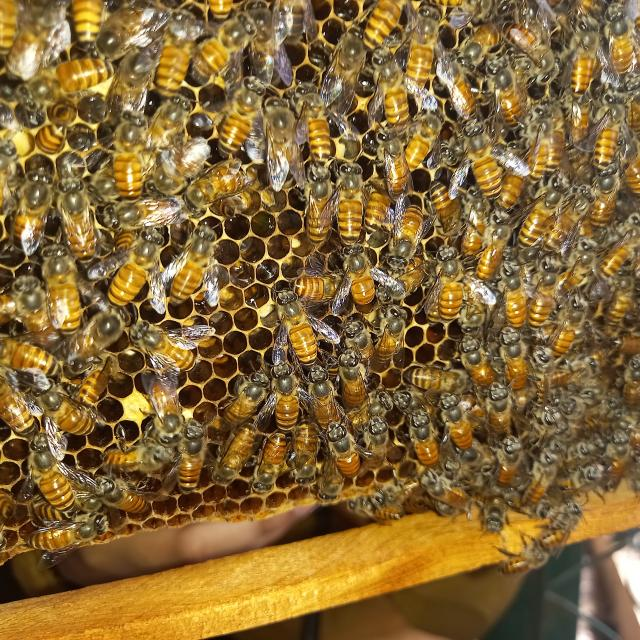honeybee: (96, 230, 180, 336), (110, 110, 166, 217), (214, 81, 275, 176), (192, 13, 263, 94), (170, 220, 226, 315), (20, 53, 100, 117), (450, 121, 510, 201), (130, 322, 200, 390), (25, 443, 92, 512), (28, 517, 113, 571), (50, 177, 105, 260), (494, 15, 562, 82), (36, 244, 84, 338), (335, 243, 394, 319), (70, 307, 130, 381), (12, 163, 58, 259), (170, 416, 223, 499), (247, 0, 293, 93), (278, 299, 329, 380), (298, 86, 348, 167), (265, 94, 309, 186), (321, 23, 364, 116), (110, 50, 158, 133), (511, 172, 562, 250), (392, 8, 435, 97), (372, 49, 418, 132), (190, 158, 252, 219), (30, 382, 94, 441), (157, 11, 194, 113), (565, 20, 611, 102), (144, 88, 201, 154), (401, 106, 453, 178), (434, 250, 486, 322), (156, 127, 200, 209), (589, 86, 633, 168), (13, 0, 60, 73), (213, 421, 255, 502), (13, 280, 63, 346), (434, 50, 478, 124), (68, 472, 149, 512), (101, 198, 188, 235), (332, 166, 372, 246), (486, 61, 531, 132), (548, 188, 592, 260), (428, 0, 492, 48), (291, 264, 350, 316), (142, 376, 190, 439), (0, 371, 44, 438), (290, 426, 332, 496), (598, 14, 640, 81), (384, 201, 430, 262), (377, 139, 420, 203), (257, 0, 324, 40), (489, 280, 535, 338), (586, 161, 623, 233), (104, 443, 174, 481), (471, 219, 516, 278), (105, 0, 154, 54), (446, 333, 490, 393), (495, 536, 554, 580), (0, 340, 64, 380), (362, 181, 399, 249), (403, 362, 470, 399), (530, 94, 569, 157), (439, 391, 476, 457), (227, 371, 268, 430), (518, 102, 549, 180), (520, 446, 556, 512), (394, 367, 468, 399), (266, 372, 304, 434), (320, 423, 362, 479), (422, 179, 457, 244), (459, 181, 491, 252), (458, 20, 500, 74), (359, 416, 394, 479), (364, 0, 402, 56), (327, 350, 368, 401), (346, 492, 419, 520), (536, 497, 579, 544), (597, 430, 630, 491), (404, 408, 436, 470), (309, 164, 334, 243), (425, 475, 475, 513), (606, 283, 640, 338), (497, 327, 528, 387), (312, 378, 346, 432), (563, 89, 592, 152), (485, 161, 520, 213), (72, 366, 108, 416), (391, 388, 441, 423), (340, 392, 394, 424), (616, 128, 640, 200), (69, 0, 104, 48), (534, 362, 601, 387), (258, 441, 284, 504), (556, 248, 588, 299), (595, 237, 628, 284), (585, 396, 629, 430), (494, 435, 522, 485), (555, 296, 580, 352), (375, 314, 404, 358), (530, 273, 552, 329), (33, 123, 64, 156), (487, 386, 509, 432), (530, 413, 566, 440), (556, 466, 600, 488), (0, 0, 14, 64), (534, 351, 547, 419), (551, 391, 584, 416), (627, 354, 640, 415), (560, 439, 594, 462), (202, 0, 238, 18), (564, 0, 597, 18)
